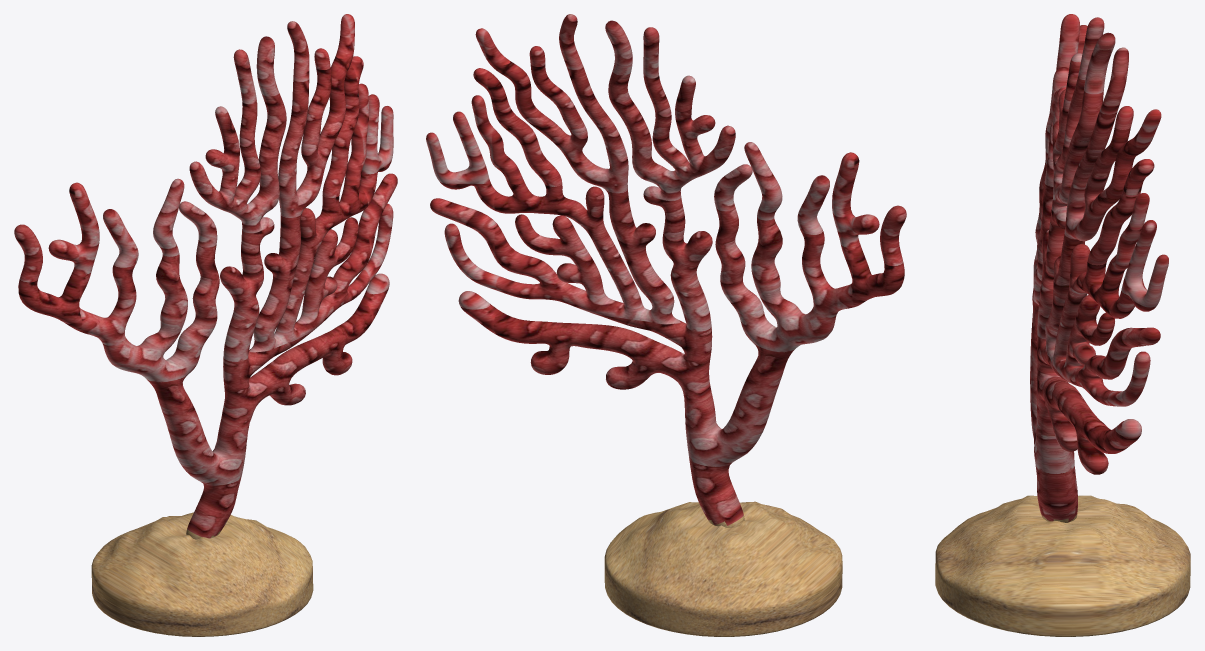
File: coral2.obj
The picture shows the model from 3 angles, left to right: view 1: azimuth 30°, elevation 25°; view 2: azimuth 150°, elevation 25°; view 3: azimuth 270°, elevation 25°; orthographic projection. The views are drawn at different scales.
Parts seen in each view (by area): view 1: coral, arena; view 2: coral, arena; view 3: coral, arena.
Part boxes in pixels (box(x1,y1,x2,y2)): coral: box(14, 14, 397, 538); arena: box(91, 512, 313, 636); coral: box(426, 14, 906, 525); arena: box(604, 501, 842, 636); coral: box(1030, 14, 1168, 521); arena: box(935, 495, 1190, 636).
Size of the model in its own units: 20.21 by 24.58 by 9.42.
Materials: 2 (2 with a texture image).
